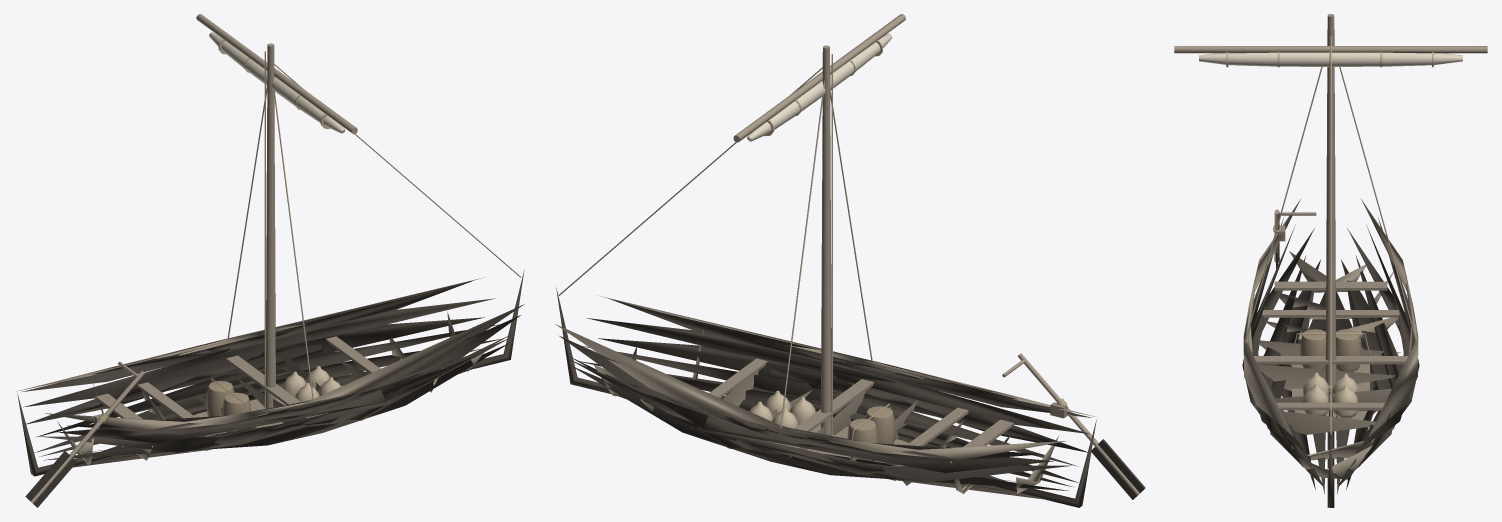
File: river-boat-far.glb
3 views of the same model, side by side, from view 1: azimuth 30°, elevation 25°; view 2: azimuth 150°, elevation 25°; view 3: azimuth 270°, elevation 25° (orthographic). The views are drawn at different scales.
Visible parts, largest first — view 1: tar, oak, mast, sail-furled, yard, steering-oar-blade, thwart-mast, steering-oar-loom, halyard, cask-02, thwart-aft, shroud-starboard (+2 smaller); view 2: tar, oak, mast, sail-furled, yard, steering-oar-blade, thwart-mast, steering-oar-loom, cask-01, halyard, thwart-aft, shroud-port (+2 smaller); view 3: oak, tar, sail-furled, mast, yard, thwart-mast, thwart-stern, thwart-aft, thwart-fore, cask-02, forestay, cask-01 (+5 smaller).
Part boxes in pixels (<box>): tar: <box>17,269,524,476</box>; oak: <box>19,277,524,464</box>; mast: <box>265,43,275,408</box>; sail-furled: <box>209,32,344,133</box>; yard: <box>196,14,357,134</box>; steering-oar-blade: <box>25,451,76,507</box>; thwart-mast: <box>226,355,300,404</box>; steering-oar-loom: <box>30,370,145,503</box>; halyard: <box>264,51,265,407</box>; cask-02: <box>206,381,234,416</box>; thwart-aft: <box>137,382,215,436</box>; shroud-starboard: <box>272,76,313,401</box>; tar: <box>556,286,1096,507</box>; oak: <box>555,295,1095,493</box>; mast: <box>821,45,831,435</box>; sail-furled: <box>747,33,892,141</box>; yard: <box>733,14,905,142</box>; steering-oar-blade: <box>1091,439,1145,499</box>; thwart-mast: <box>794,379,874,431</box>; steering-oar-loom: <box>1017,353,1140,495</box>; cask-01: <box>865,406,895,444</box>; halyard: <box>831,54,832,434</box>; thwart-aft: <box>885,407,968,465</box>; shroud-port: <box>780,80,824,427</box>; oak: <box>1243,199,1418,479</box>; tar: <box>1242,217,1419,507</box>; sail-furled: <box>1199,52,1462,66</box>; mast: <box>1325,14,1336,385</box>; yard: <box>1174,46,1487,53</box>; thwart-mast: <box>1253,356,1408,364</box>; thwart-stern: <box>1274,281,1387,290</box>; thwart-aft: <box>1262,310,1399,317</box>; thwart-fore: <box>1277,402,1384,410</box>; cask-02: <box>1336,329,1361,371</box>; forestay: <box>1330,36,1331,434</box>; cask-01: <box>1300,329,1325,369</box>.
Bounding box in the file's own units: 12.49 × 8.63 × 6.4.
